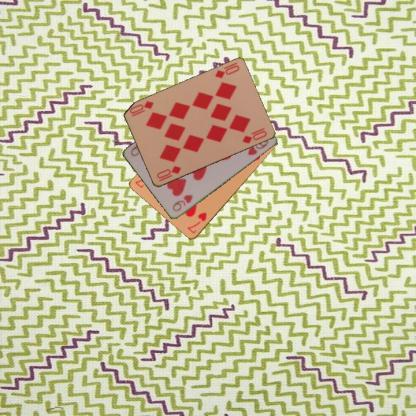10d: (212, 60, 240, 80), (154, 164, 182, 182)
7h: (185, 210, 208, 235)
9h: (170, 192, 194, 214)
